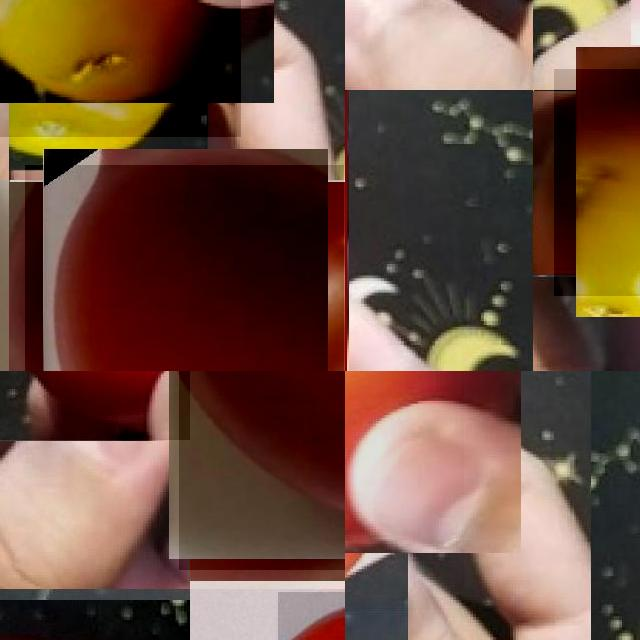Fresh Tomato: (25, 165, 344, 371), (179, 371, 345, 570), (345, 371, 464, 610), (0, 371, 190, 440)
Rotten Tomato: (0, 0, 240, 137), (554, 68, 640, 296)
